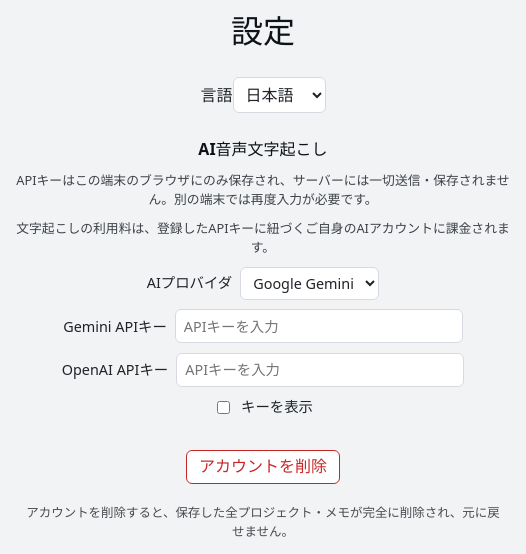
Scenario: SettingsPage › APIキーはlocalStorageにのみ保存され、マスク表示される
The width and height of the screenshot is (526, 554).
Type "my-gemini-key" into the password field labelled "Gemini APIキー".
click(319, 326); type("my-gemini-key")  # box [175, 309, 463, 343]
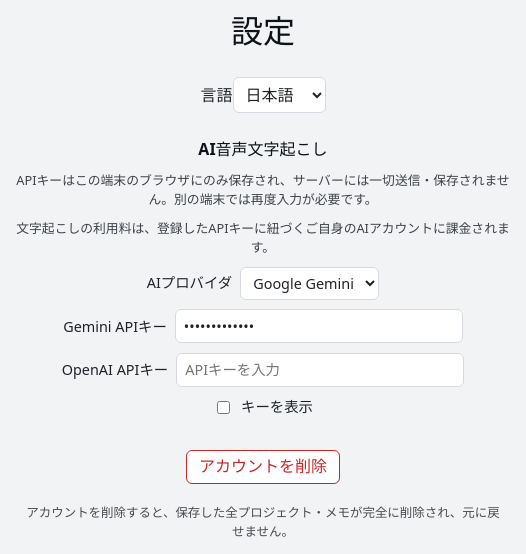
Click the checkbox labelled "キーを表示".
click(224, 407)  # box [217, 400, 230, 414]
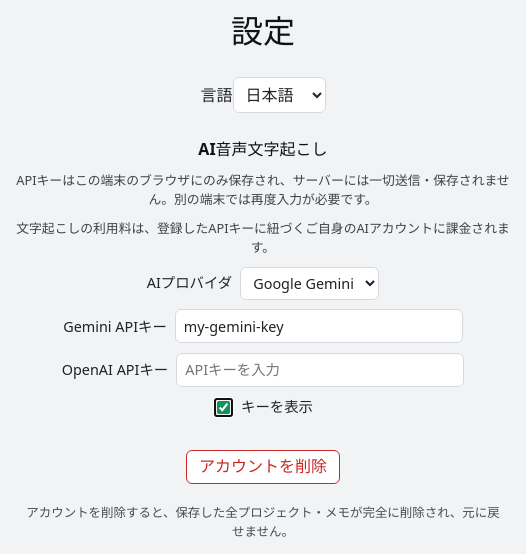
Now the field labelled "Gemini APIキー" shows its text, box [175, 309, 463, 343]
